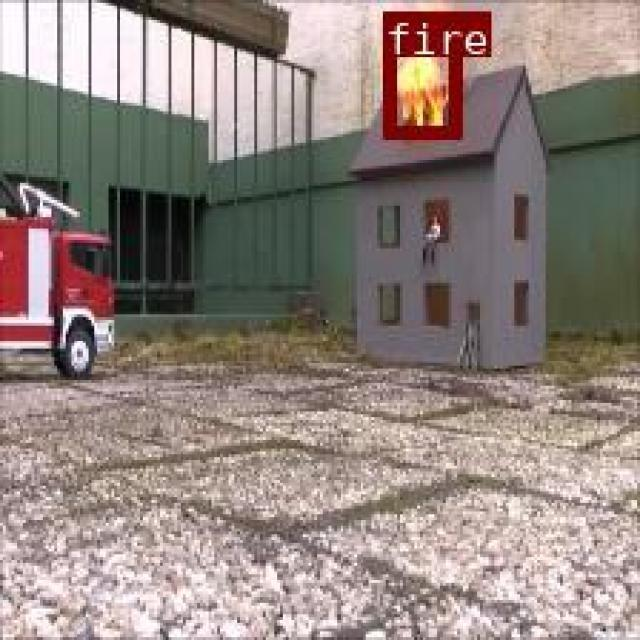fire: (381, 9, 459, 136)
